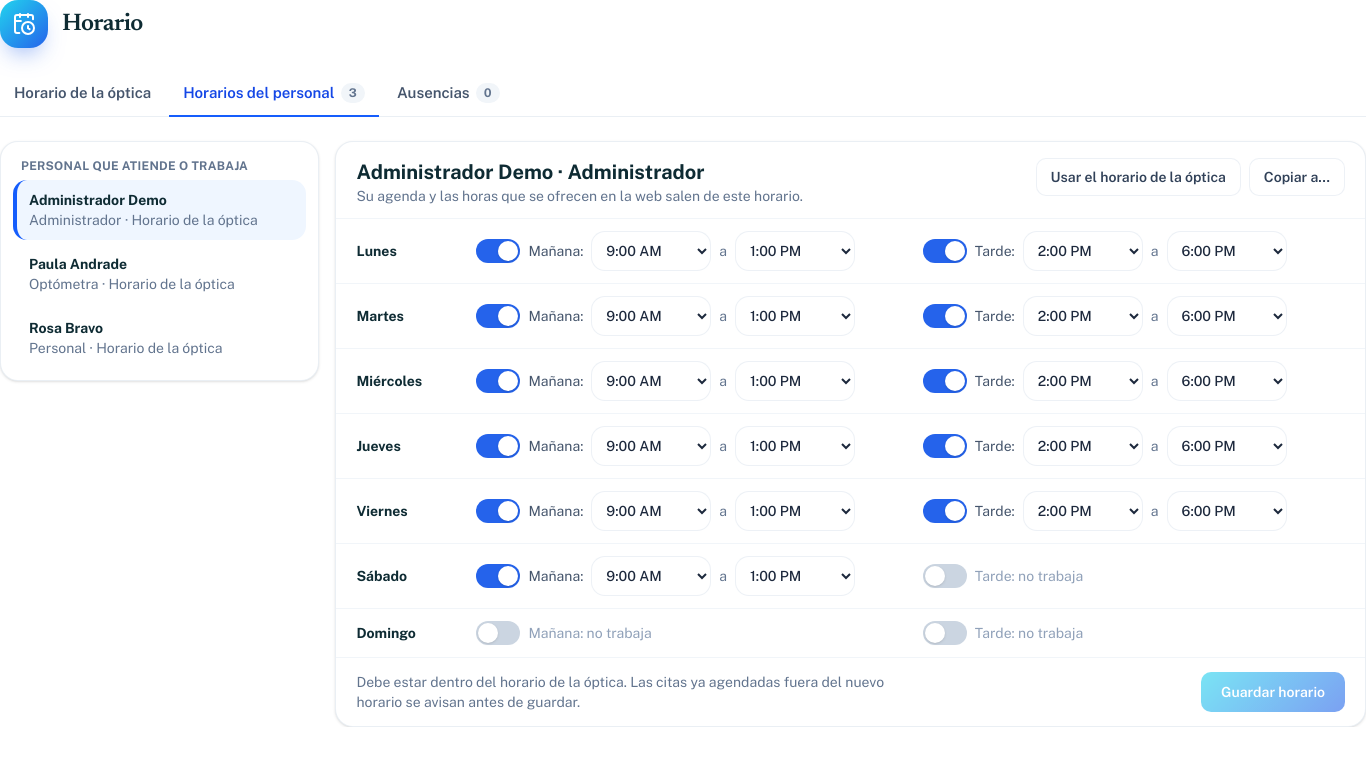
Test: Horario del administrador › Horarios del personal › «Copiar a…» pasa el horario a las personas que se elijan, cada una por la función de la base
The image size is (1366, 768).
Click the text "Rosa Bravo".
click(66, 328)  # box [29,320,103,336]
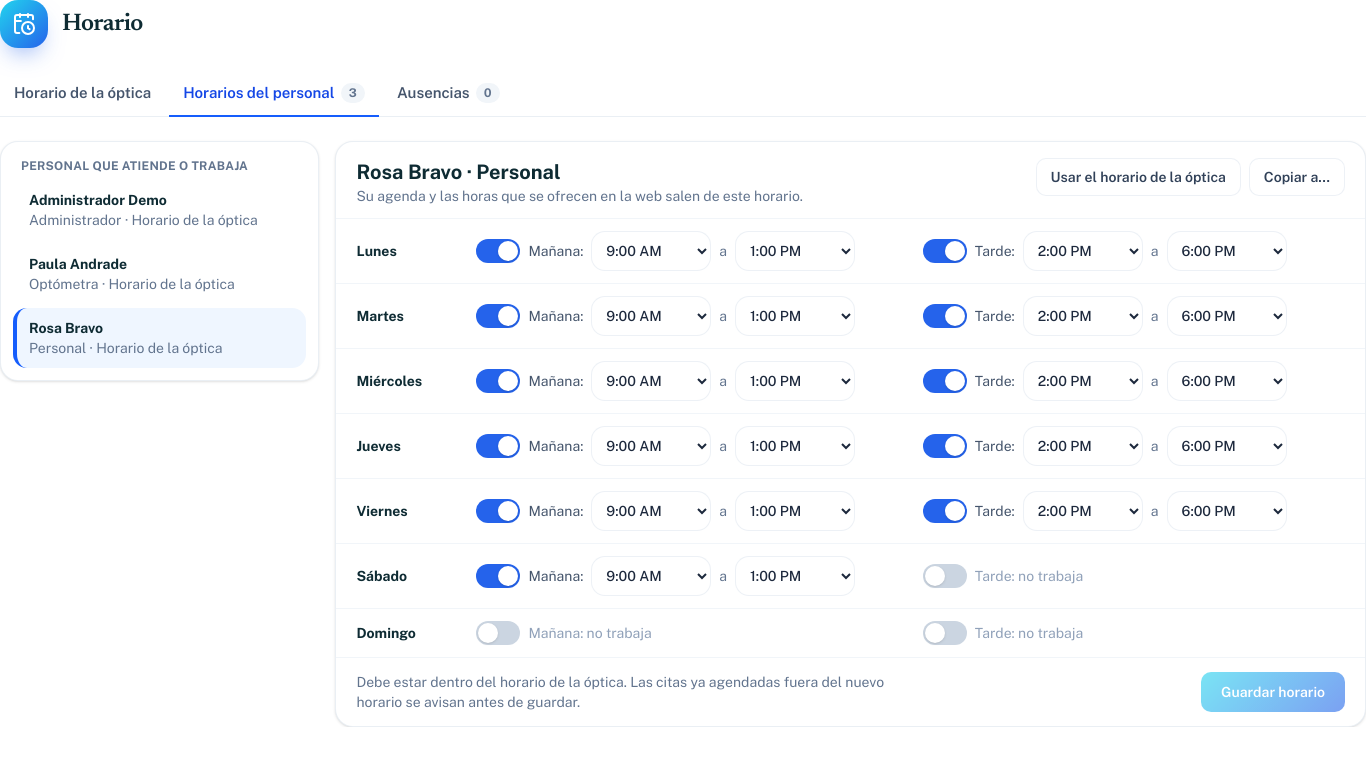
Result: the element named "Horario de Rosa Bravo" is shown at [336,140,1365,726]
Click the switch named "Viernes: tarde".
click(945, 510)  # box [923,498,967,522]
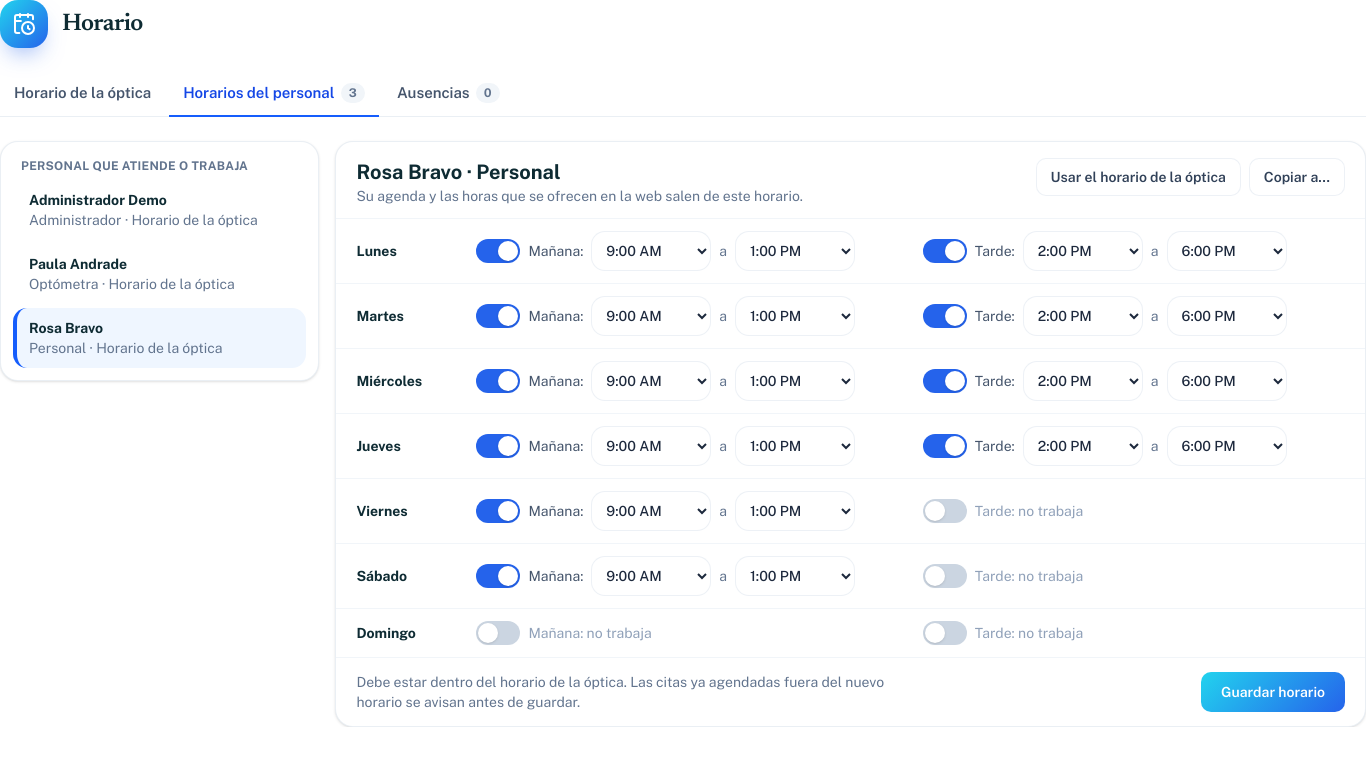
Click the button "Copiar a…".
click(1297, 176)  # box [1249,158,1345,196]
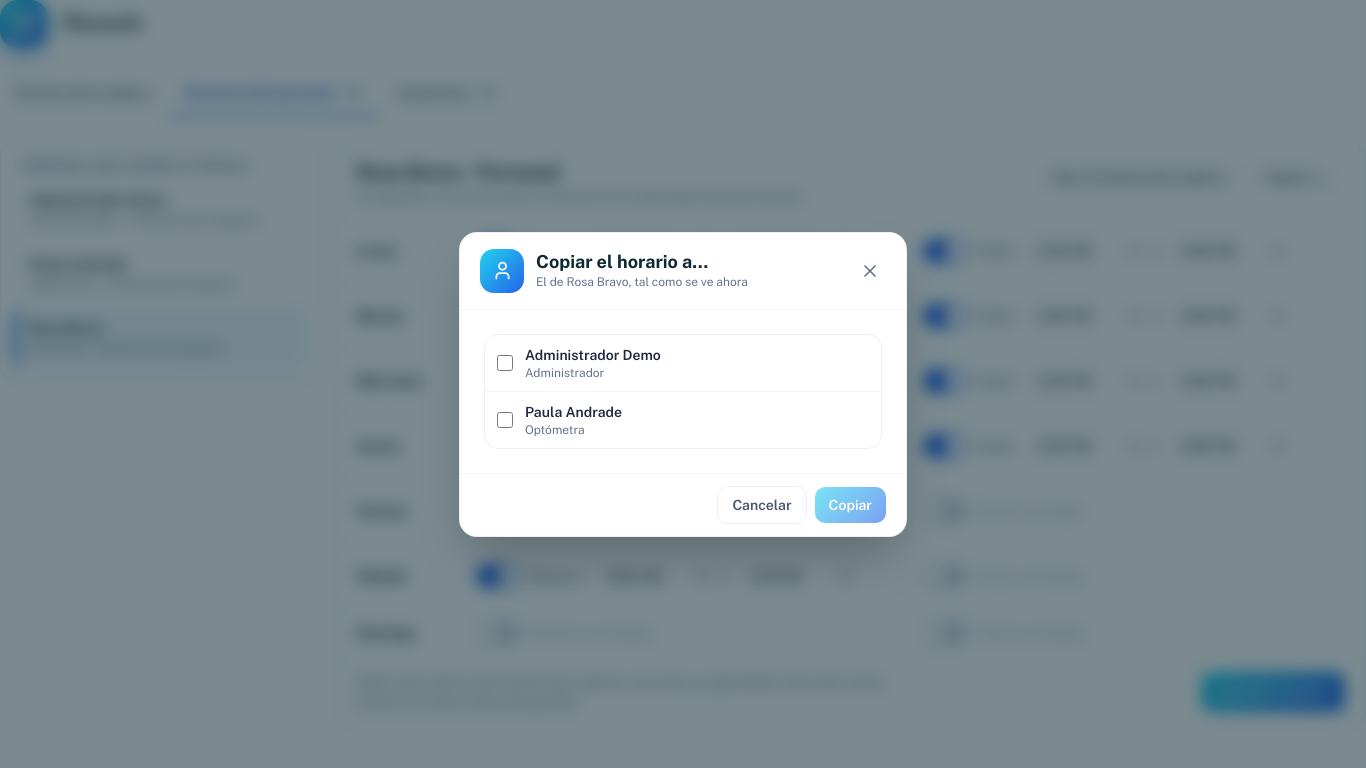
Click the checkbox labelled "Paula Andrade Optómetra".
click(505, 420)  # box [497,412,513,428]
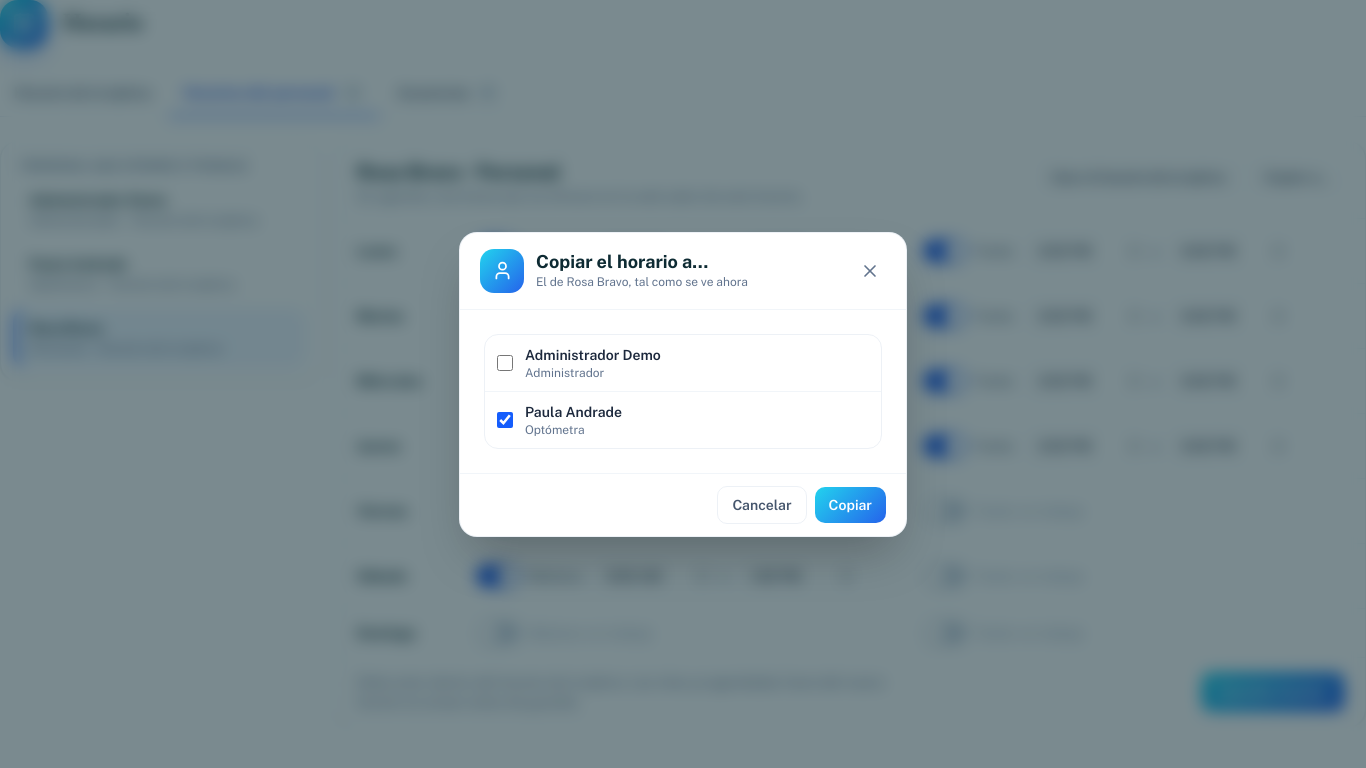
Click the button "Copiar".
click(850, 504)  # box [815,486,886,522]
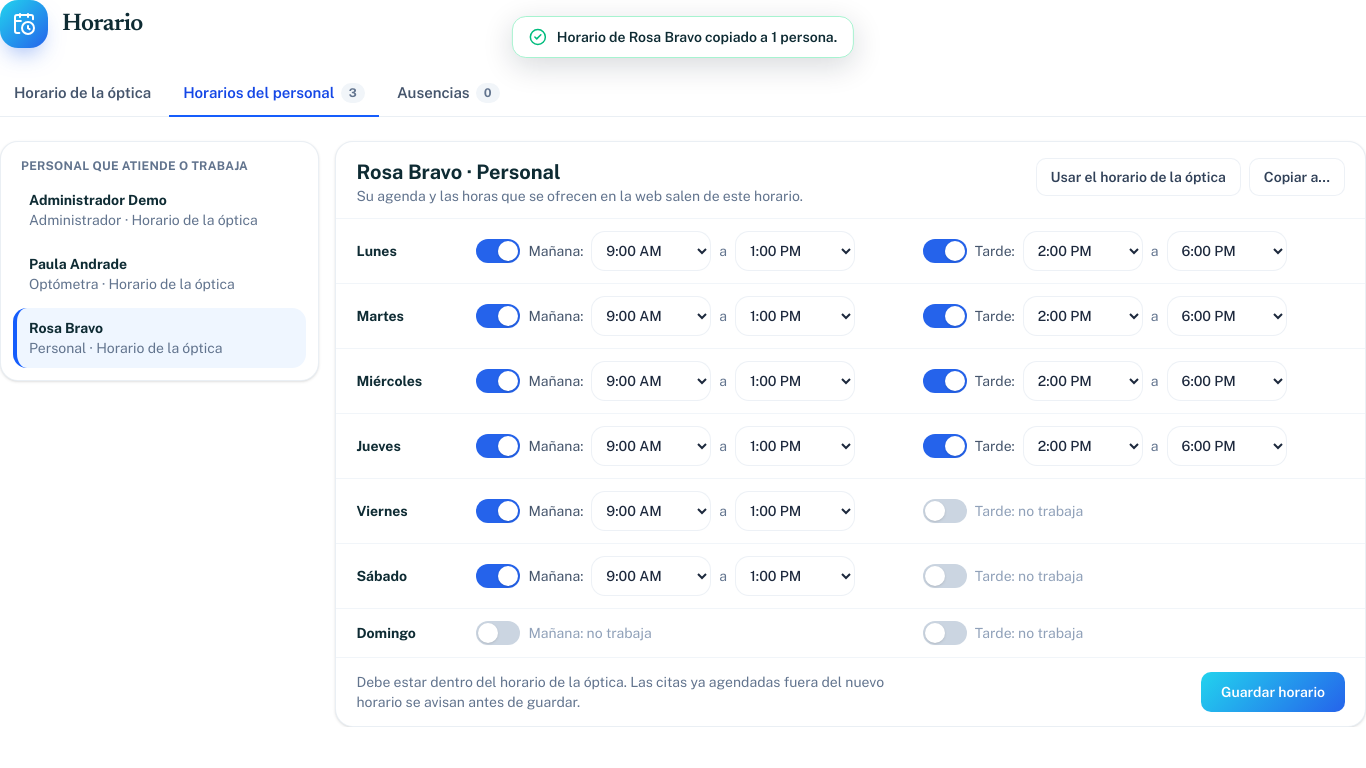
Result: the text "Horario de Rosa Bravo copiado a 1 persona." is shown at [557,27,837,47]
